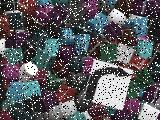Right: (83, 59, 133, 111)
